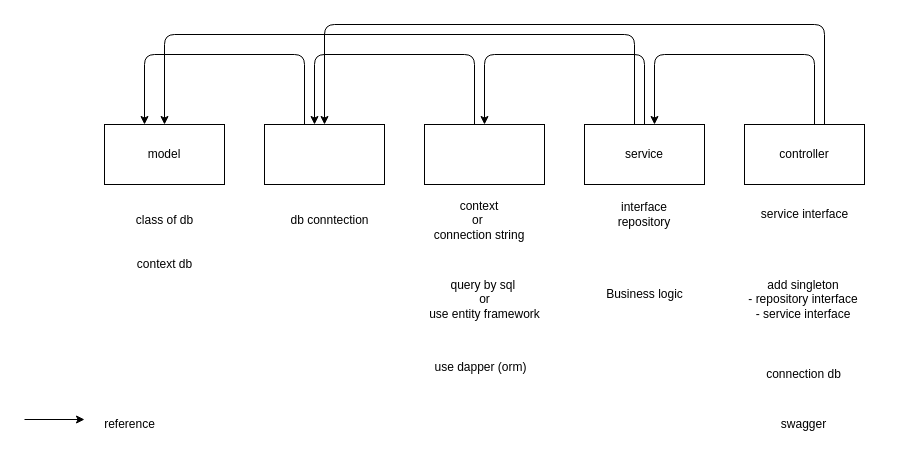
The diagram is 901 pixels wide and 452 high, and some of its shapes have lost their labels. The centre of each missing label's shape, as x and y in pixels:
"context = db" goes at point 324,154.
"repository" goes at point 484,154.
